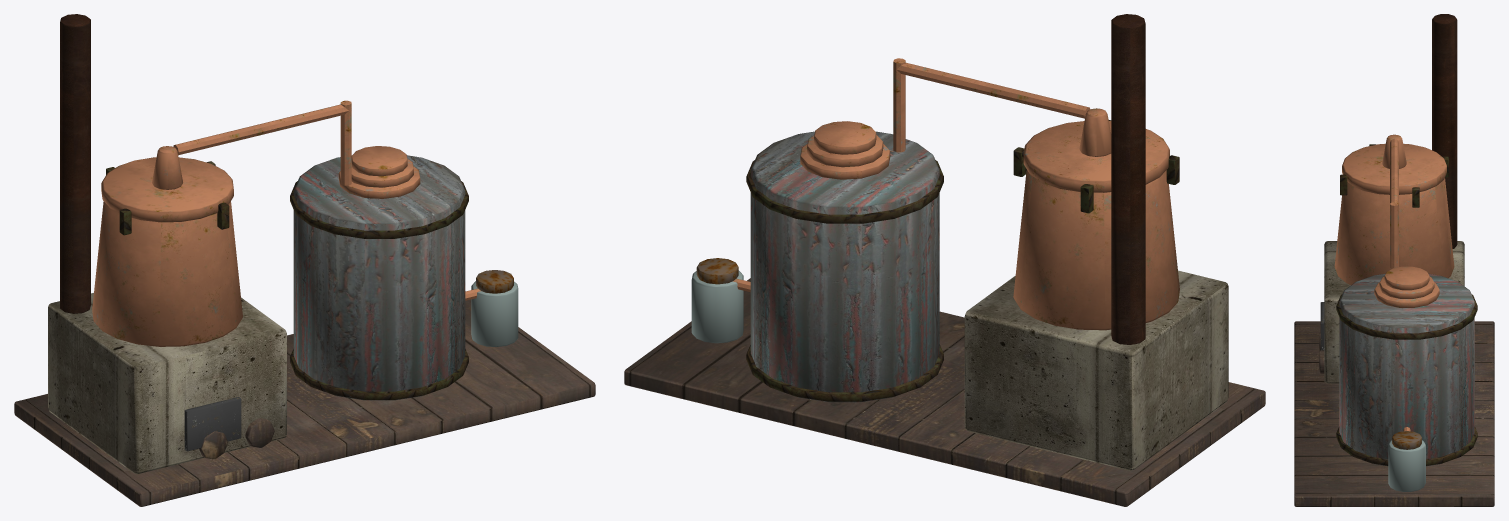
Rendered from deploy_still.glb.
The picture shows the model from 3 angles, left to right: view 1: azimuth 30°, elevation 25°; view 2: azimuth 150°, elevation 25°; view 3: azimuth 270°, elevation 25°; orthographic projection. The views are drawn at different scales.
Parts seen in each view (by area): view 1: cyl.006, box, box.001, cyl.001, cyl, cyl.002, cyl.014, box.002, cyl.004, cyl.008, cyl.007, cyl.012 (+6 smaller); view 2: cyl.006, box.001, box, cyl.001, cyl, cyl.002, cyl.014, cyl.004, cyl.008, cyl.007, cyl.012, cyl.010 (+4 smaller); view 3: cyl.006, box, cyl.001, cyl, cyl.002, box.001, cyl.014, cyl.008, cyl.012, cyl.007, cyl.010, cyl.011 (+5 smaller).
Boxes of the visible parts, left/top/right/bottom form: cyl.006: left=293, top=155, right=465, bottom=400; box: left=14, top=299, right=595, bottom=506; box.001: left=48, top=293, right=286, bottom=473; cyl.001: left=92, top=201, right=242, bottom=346; cyl: left=60, top=14, right=90, bottom=313; cyl.002: left=101, top=157, right=233, bottom=222; cyl.014: left=471, top=281, right=518, bottom=346; box.002: left=184, top=397, right=241, bottom=451; cyl.004: left=173, top=104, right=348, bottom=155; cyl.008: left=290, top=181, right=468, bottom=238; cyl.007: left=290, top=349, right=468, bottom=399; cyl.012: left=351, top=146, right=407, bottom=176; cyl.006: left=750, top=131, right=939, bottom=402; box.001: left=964, top=270, right=1228, bottom=470; box: left=624, top=278, right=1265, bottom=506; cyl.001: left=1013, top=169, right=1179, bottom=330; cyl: left=1111, top=14, right=1145, bottom=344; cyl.002: left=1023, top=121, right=1169, bottom=192; cyl.014: left=691, top=270, right=743, bottom=343; cyl.004: left=896, top=62, right=1090, bottom=118; cyl.008: left=746, top=160, right=943, bottom=223; cyl.007: left=746, top=344, right=943, bottom=401; cyl.012: left=814, top=121, right=876, bottom=154; cyl.010: left=800, top=144, right=890, bottom=179; cyl.006: left=1339, top=273, right=1474, bottom=466; box: left=1294, top=321, right=1494, bottom=506; cyl.001: left=1334, top=178, right=1454, bottom=284; cyl: left=1432, top=14, right=1457, bottom=248; cyl.002: left=1342, top=143, right=1446, bottom=194; box.001: left=1324, top=241, right=1464, bottom=383; cyl.014: left=1388, top=440, right=1425, bottom=491; cyl.008: left=1336, top=294, right=1477, bottom=339; cyl.012: left=1384, top=266, right=1429, bottom=290; cyl.007: left=1336, top=426, right=1477, bottom=465; cyl.010: left=1374, top=282, right=1439, bottom=307; cyl.011: left=1379, top=277, right=1434, bottom=298.
Size of the model in its own units: 1.66 by 1.43 by 0.8.
Materials: 9 (8 with a texture image).
